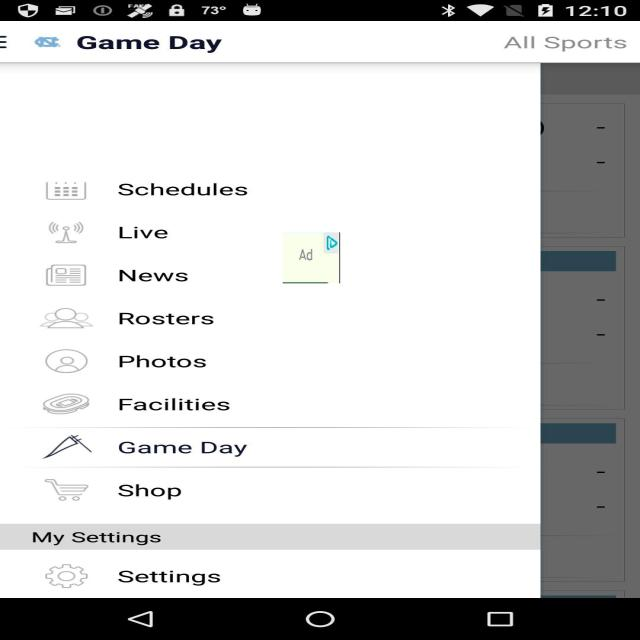sneaking: (283, 232, 340, 284)
